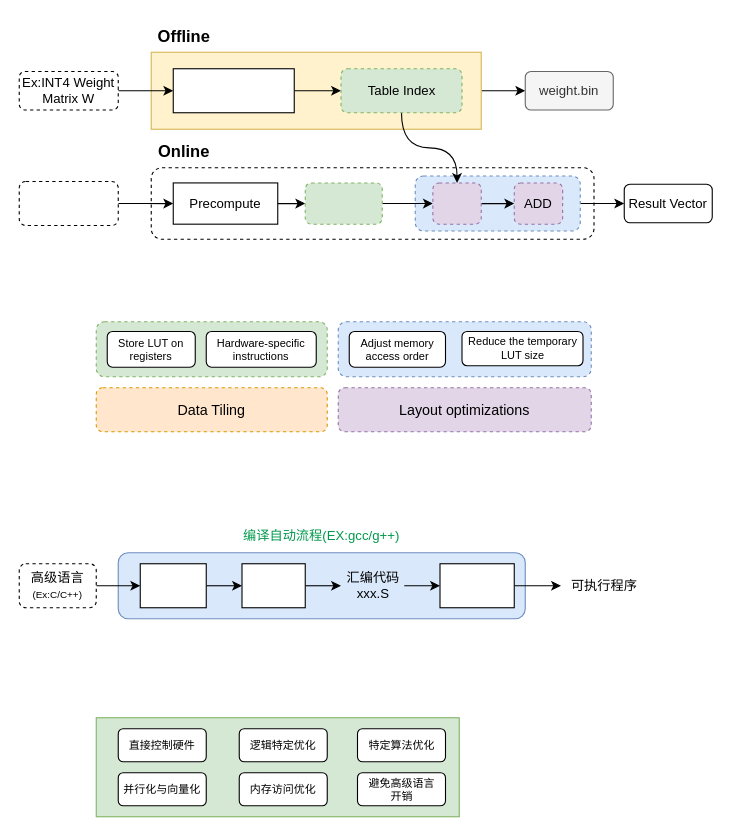
Image size: 732x836. Some labels were removed from this diagram. Each missing label, with the box of its shape:
Activation A: (18, 180, 118, 226)
LUT: (432, 182, 481, 224)
Table: (304, 182, 382, 224)
Weight Decomposition: (172, 68, 294, 113)
汇编器: (439, 563, 514, 608)
编译: (241, 563, 305, 608)
预处理: (139, 563, 206, 608)
